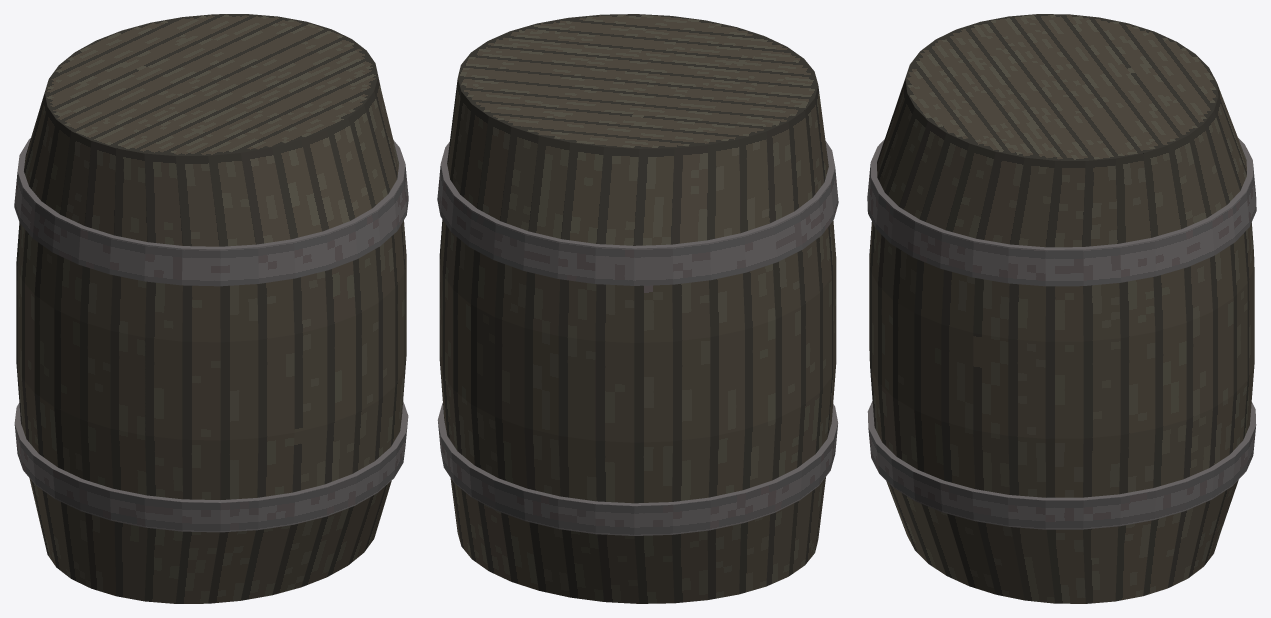
File: barrel.glb
3 renders of one model, left to right at view 1: azimuth 30°, elevation 25°; view 2: azimuth 150°, elevation 25°; view 3: azimuth 270°, elevation 25°, orthographic. The views are drawn at different scales.
Parts seen in each view (by area): view 1: Cylinder; view 2: Cylinder; view 3: Cylinder.
Boxes of the visible parts, box(x1,y1,x2,y2) form: Cylinder: box(14, 14, 408, 603); Cylinder: box(437, 14, 838, 603); Cylinder: box(867, 14, 1256, 603).
Bounding box in the file's own units: 0.5295 × 0.6647 × 0.5295.
2 materials, 2 textured.
